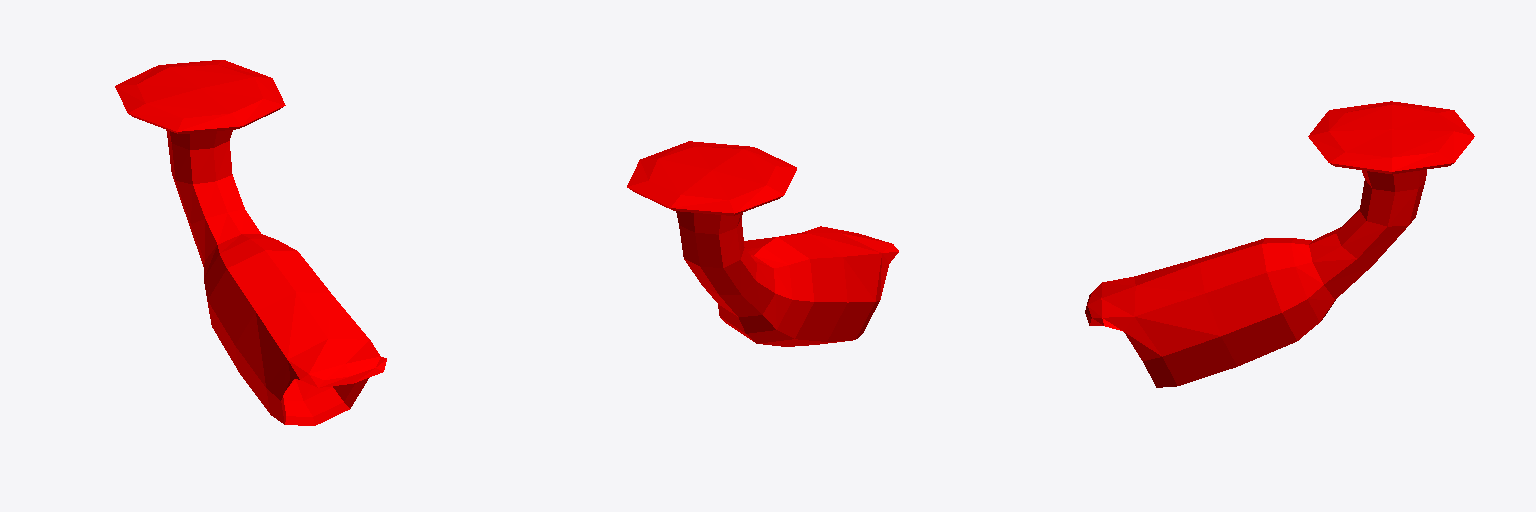
Rendered from camera.obj.
3 renders of one model, left to right at view 1: azimuth 30°, elevation 25°; view 2: azimuth 150°, elevation 25°; view 3: azimuth 270°, elevation 25°, orthographic.
Visible parts, largest first — view 1: camera; view 2: camera; view 3: camera.
Part boxes in pixels (x1,y1,x2,y2): camera: (115, 60, 386, 425); camera: (627, 141, 898, 346); camera: (1085, 101, 1474, 387).
Size of the model in its own units: 0.2294 by 0.3832 by 0.5356.